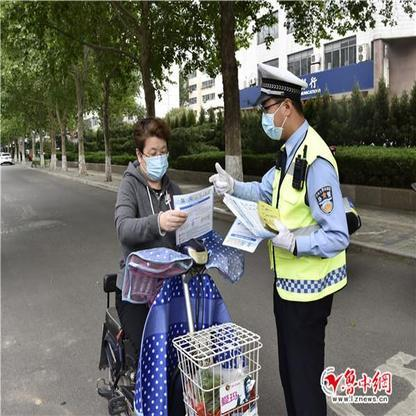target: (94, 115, 267, 409)
